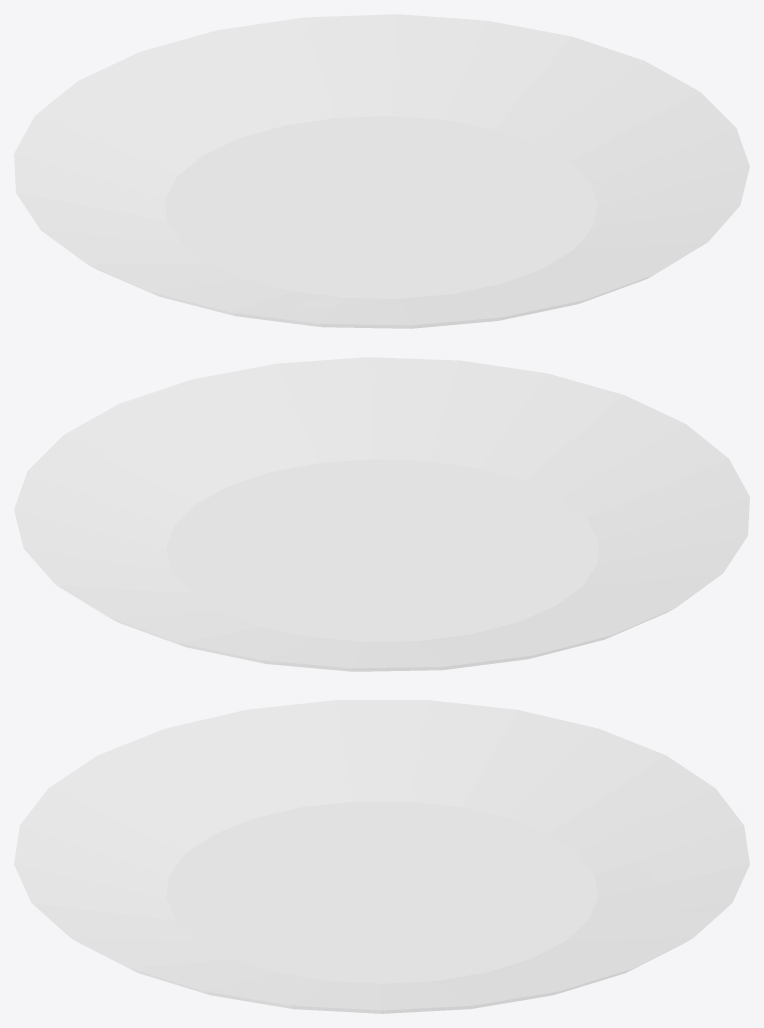
The model's file is Dish.FBX.
3 views of the same model, one above another, from view 1: azimuth 30°, elevation 25°; view 2: azimuth 150°, elevation 25°; view 3: azimuth 270°, elevation 25° (orthographic).
Visible parts, largest first — view 1: Dish; view 2: Dish; view 3: Dish.
Part boxes in pixels (left/top/right/bottom): Dish: left=14, top=14, right=749, bottom=328; Dish: left=14, top=357, right=749, bottom=671; Dish: left=14, top=700, right=749, bottom=1013.
Size of the model in its own units: 24.43 by 2.46 by 24.48.
1 material, 1 textured.
